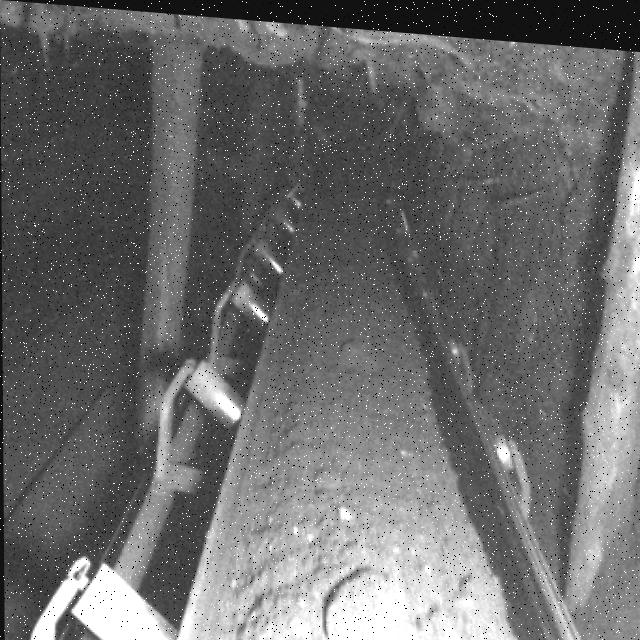large_sized_coal: (323, 557, 415, 640), (339, 334, 374, 372)
